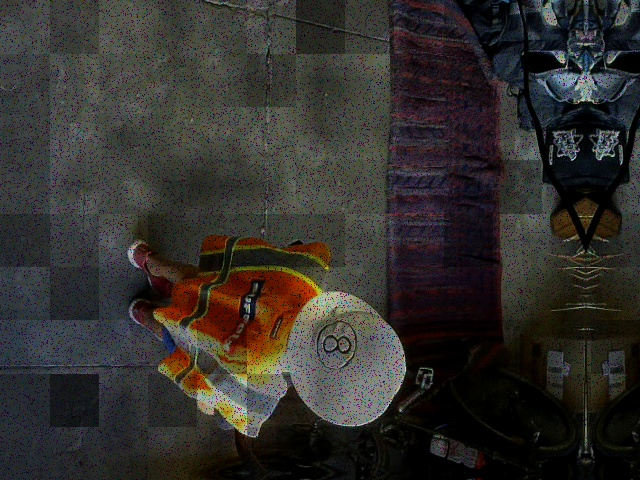eight: (314, 321, 359, 369)
